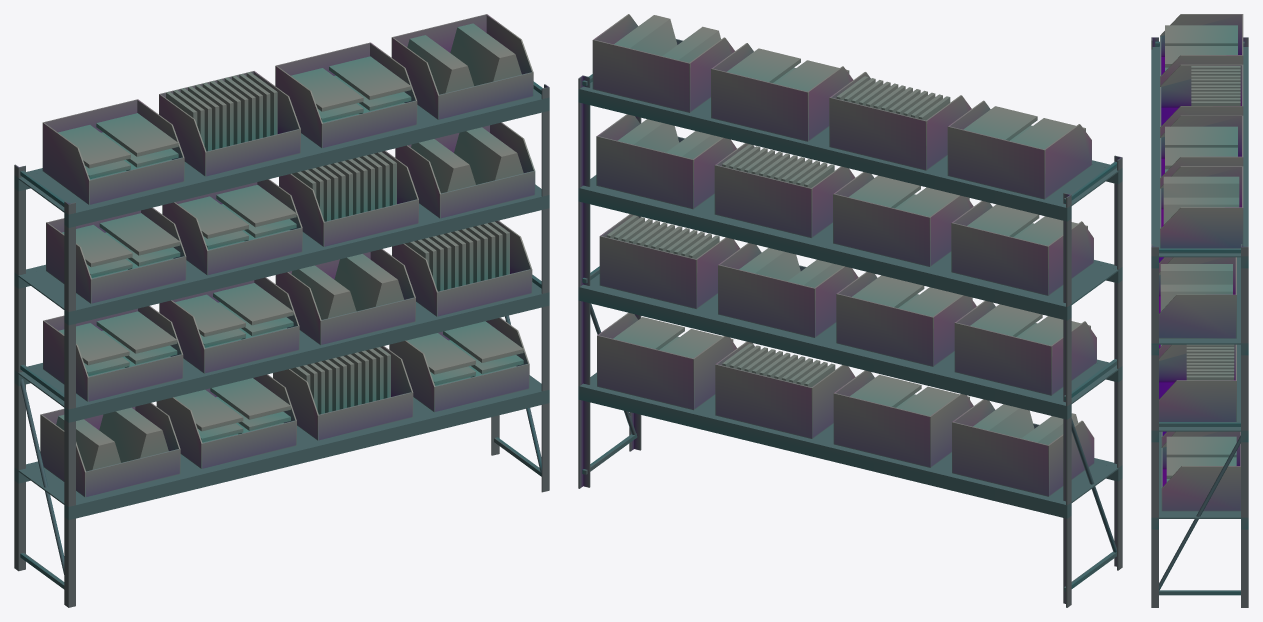
The model's file is simready-rack_composition_l03.glb.
The picture shows the model from 3 angles, left to right: view 1: azimuth 30°, elevation 25°; view 2: azimuth 150°, elevation 25°; view 3: azimuth 270°, elevation 25°; orthographic projection. The views are drawn at different scales.
Parts seen in each view (by area): view 1: tray_floor.012, tray_floor.015, tray_floor.014, tray_floor.013, tray_floor.008, tray_floor.004, tray_floor.007, tray_floor.009, tray_floor.005, tray_floor.011, tray_floor.006, tray_floor.010 (+16 smaller); view 2: tray_floor.012, tray_floor.015, tray_floor.014, tray_floor.008, tray_floor.004, tray_floor, tray_floor.001, tray_floor.003, tray_floor.002, tray_floor.013, tray_floor.005, tray_floor.009 (+15 smaller); view 3: tray_floor.015, tray_floor.011, tray_floor.003, tray_floor.007, tray_floor.014, tray_floor.013, tray_floor.012, corner_post.001, corner_post.003, shelf_rail.006, shelf_rail.007, shelf.002 (+7 smaller).
Boxes of the visible parts, <box> form: tray_floor.012: <box>42,99,184,204</box>; tray_floor.015: <box>391,14,533,119</box>; tray_floor.014: <box>275,42,417,147</box>; tray_floor.013: <box>159,71,300,176</box>; tray_floor.008: <box>46,207,186,303</box>; tray_floor.004: <box>43,305,183,401</box>; tray_floor.007: <box>392,220,532,316</box>; tray_floor.009: <box>162,179,302,275</box>; tray_floor.005: <box>159,277,299,373</box>; tray_floor.011: <box>395,122,535,218</box>; tray_floor.006: <box>275,249,415,344</box>; tray_floor.010: <box>279,151,418,246</box>; tray_floor.012: <box>947,100,1091,199</box>; tray_floor.015: <box>592,14,734,112</box>; tray_floor.014: <box>711,43,853,141</box>; tray_floor.008: <box>951,201,1093,295</box>; tray_floor.004: <box>954,300,1096,395</box>; tray_floor: <box>952,399,1094,496</box>; tray_floor.001: <box>833,370,973,467</box>; tray_floor.003: <box>597,312,736,410</box>; tray_floor.002: <box>715,341,855,438</box>; tray_floor.013: <box>829,72,971,170</box>; tray_floor.005: <box>836,271,976,366</box>; tray_floor.009: <box>833,172,973,266</box>; tray_floor.015: <box>1160,166,1243,248</box>; tray_floor.011: <box>1159,257,1236,338</box>; tray_floor.003: <box>1161,431,1240,511</box>; tray_floor.007: <box>1159,344,1236,421</box>; tray_floor.014: <box>1160,115,1243,187</box>; tray_floor.013: <box>1160,64,1243,136</box>; tray_floor.012: <box>1160,14,1243,85</box>; corner_post.001: <box>1151,244,1158,607</box>; corner_post.003: <box>1241,244,1248,607</box>; shelf_rail.006: <box>1151,47,1158,268</box>; shelf_rail.007: <box>1241,47,1248,268</box>; shelf.002: <box>1151,257,1248,344</box>.
Size of the model in its own units: 3.1 by 2.73 by 0.6071.
